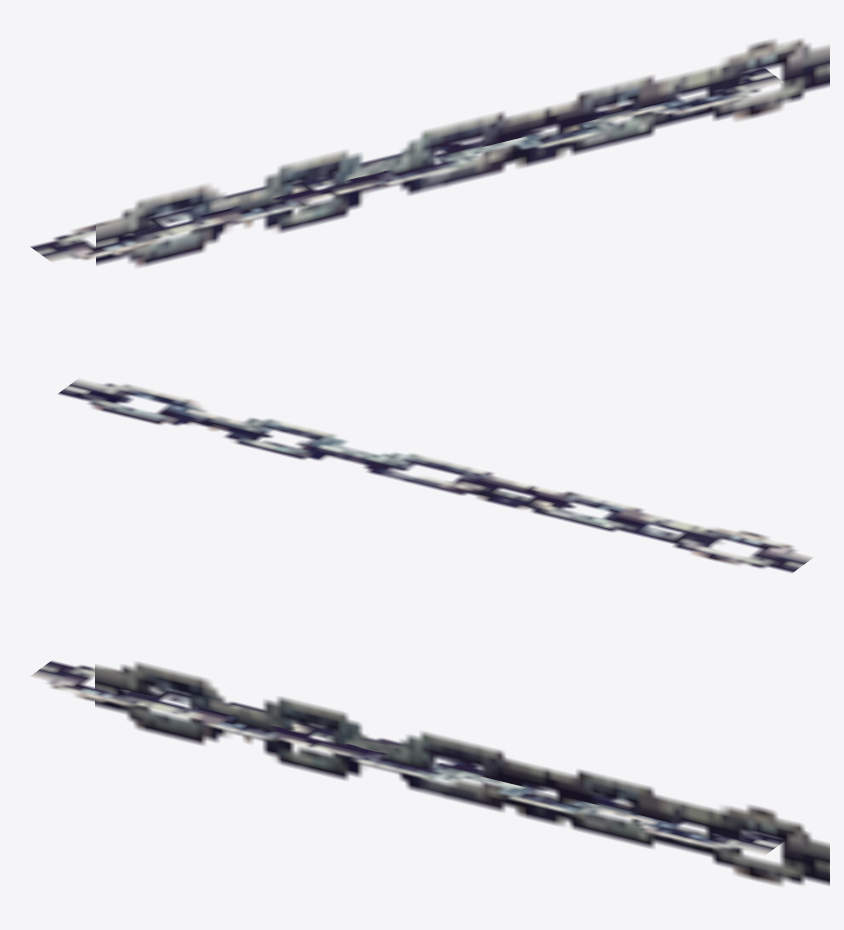
The model's file is chain.glb.
3 views of the same model, one above another, from view 1: azimuth 30°, elevation 25°; view 2: azimuth 150°, elevation 25°; view 3: azimuth 330°, elevation 25° (orthographic).
Parts seen in each view (by area): view 1: chain2; view 2: chain2; view 3: chain2.
Boxes of the visible parts, bbox=[...] form: chain2: bbox=[30, 39, 829, 267]; chain2: bbox=[58, 378, 813, 572]; chain2: bbox=[30, 661, 829, 885].
Bounding box in the file's own units: 3.04 × 0.3778 × 0.3574.
1 material, 1 textured.
